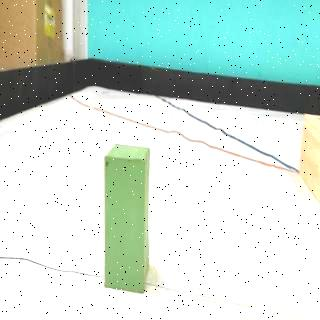greenbox: (104, 143, 150, 296)
